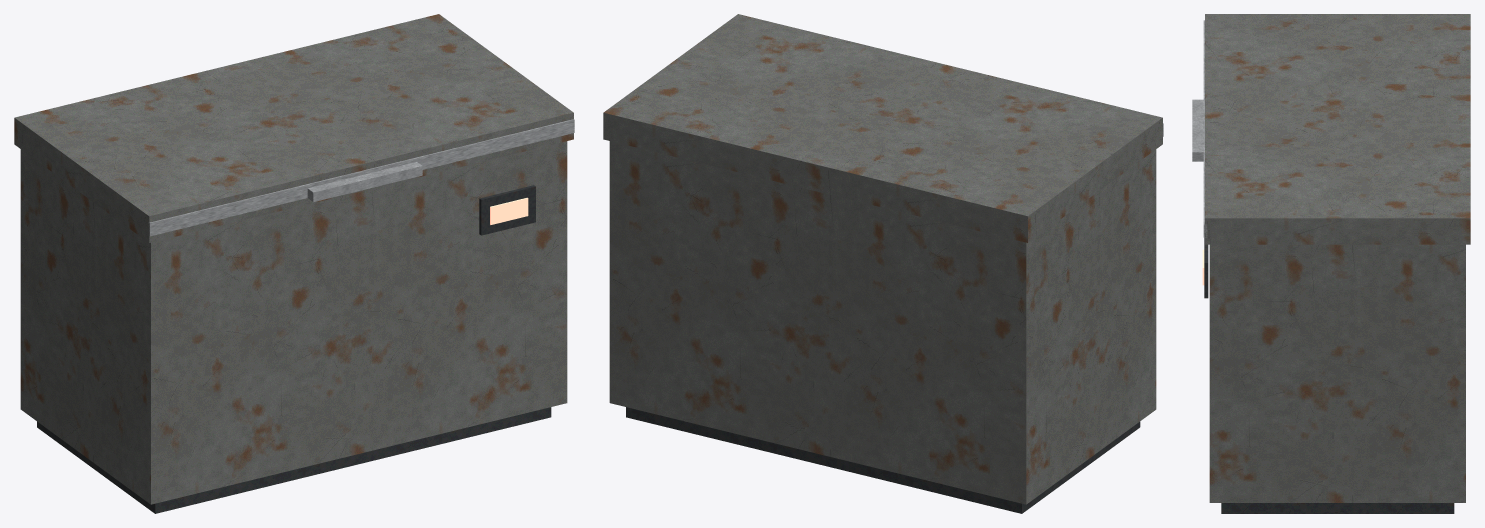
The model's file is freezer_chest.glb.
The picture shows the model from 3 angles, left to right: view 1: azimuth 30°, elevation 25°; view 2: azimuth 150°, elevation 25°; view 3: azimuth 270°, elevation 25°; orthographic projection.
Visible parts, largest first — view 1: freezer_chest, Lid; view 2: freezer_chest, Lid; view 3: freezer_chest, Lid.
Boxes of the visible parts, <box> form: freezer_chest: <box>20,141,567,513</box>; Lid: <box>14,14,574,242</box>; freezer_chest: <box>609,141,1156,513</box>; Lid: <box>603,14,1163,242</box>; freezer_chest: <box>1202,237,1465,513</box>; Lid: <box>1192,14,1470,244</box>.
Bounding box in the file's own units: 1.24 × 0.86 × 0.717.
Materials: 5 (4 with a texture image).
